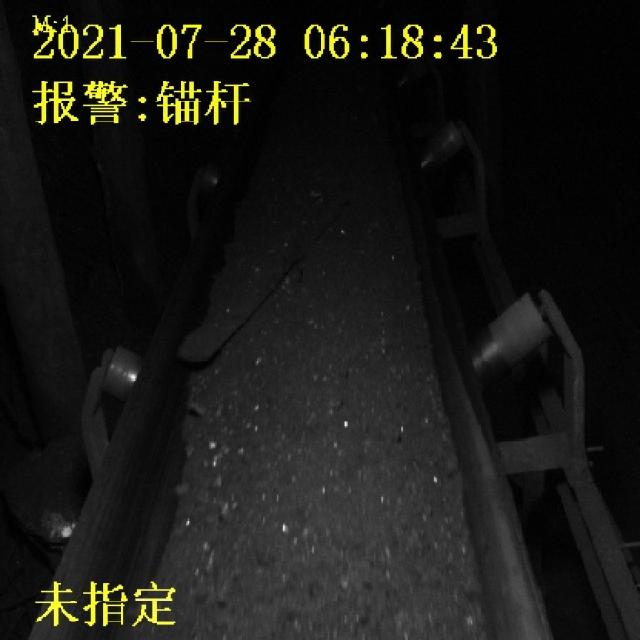bolt: (177, 172, 355, 365)
